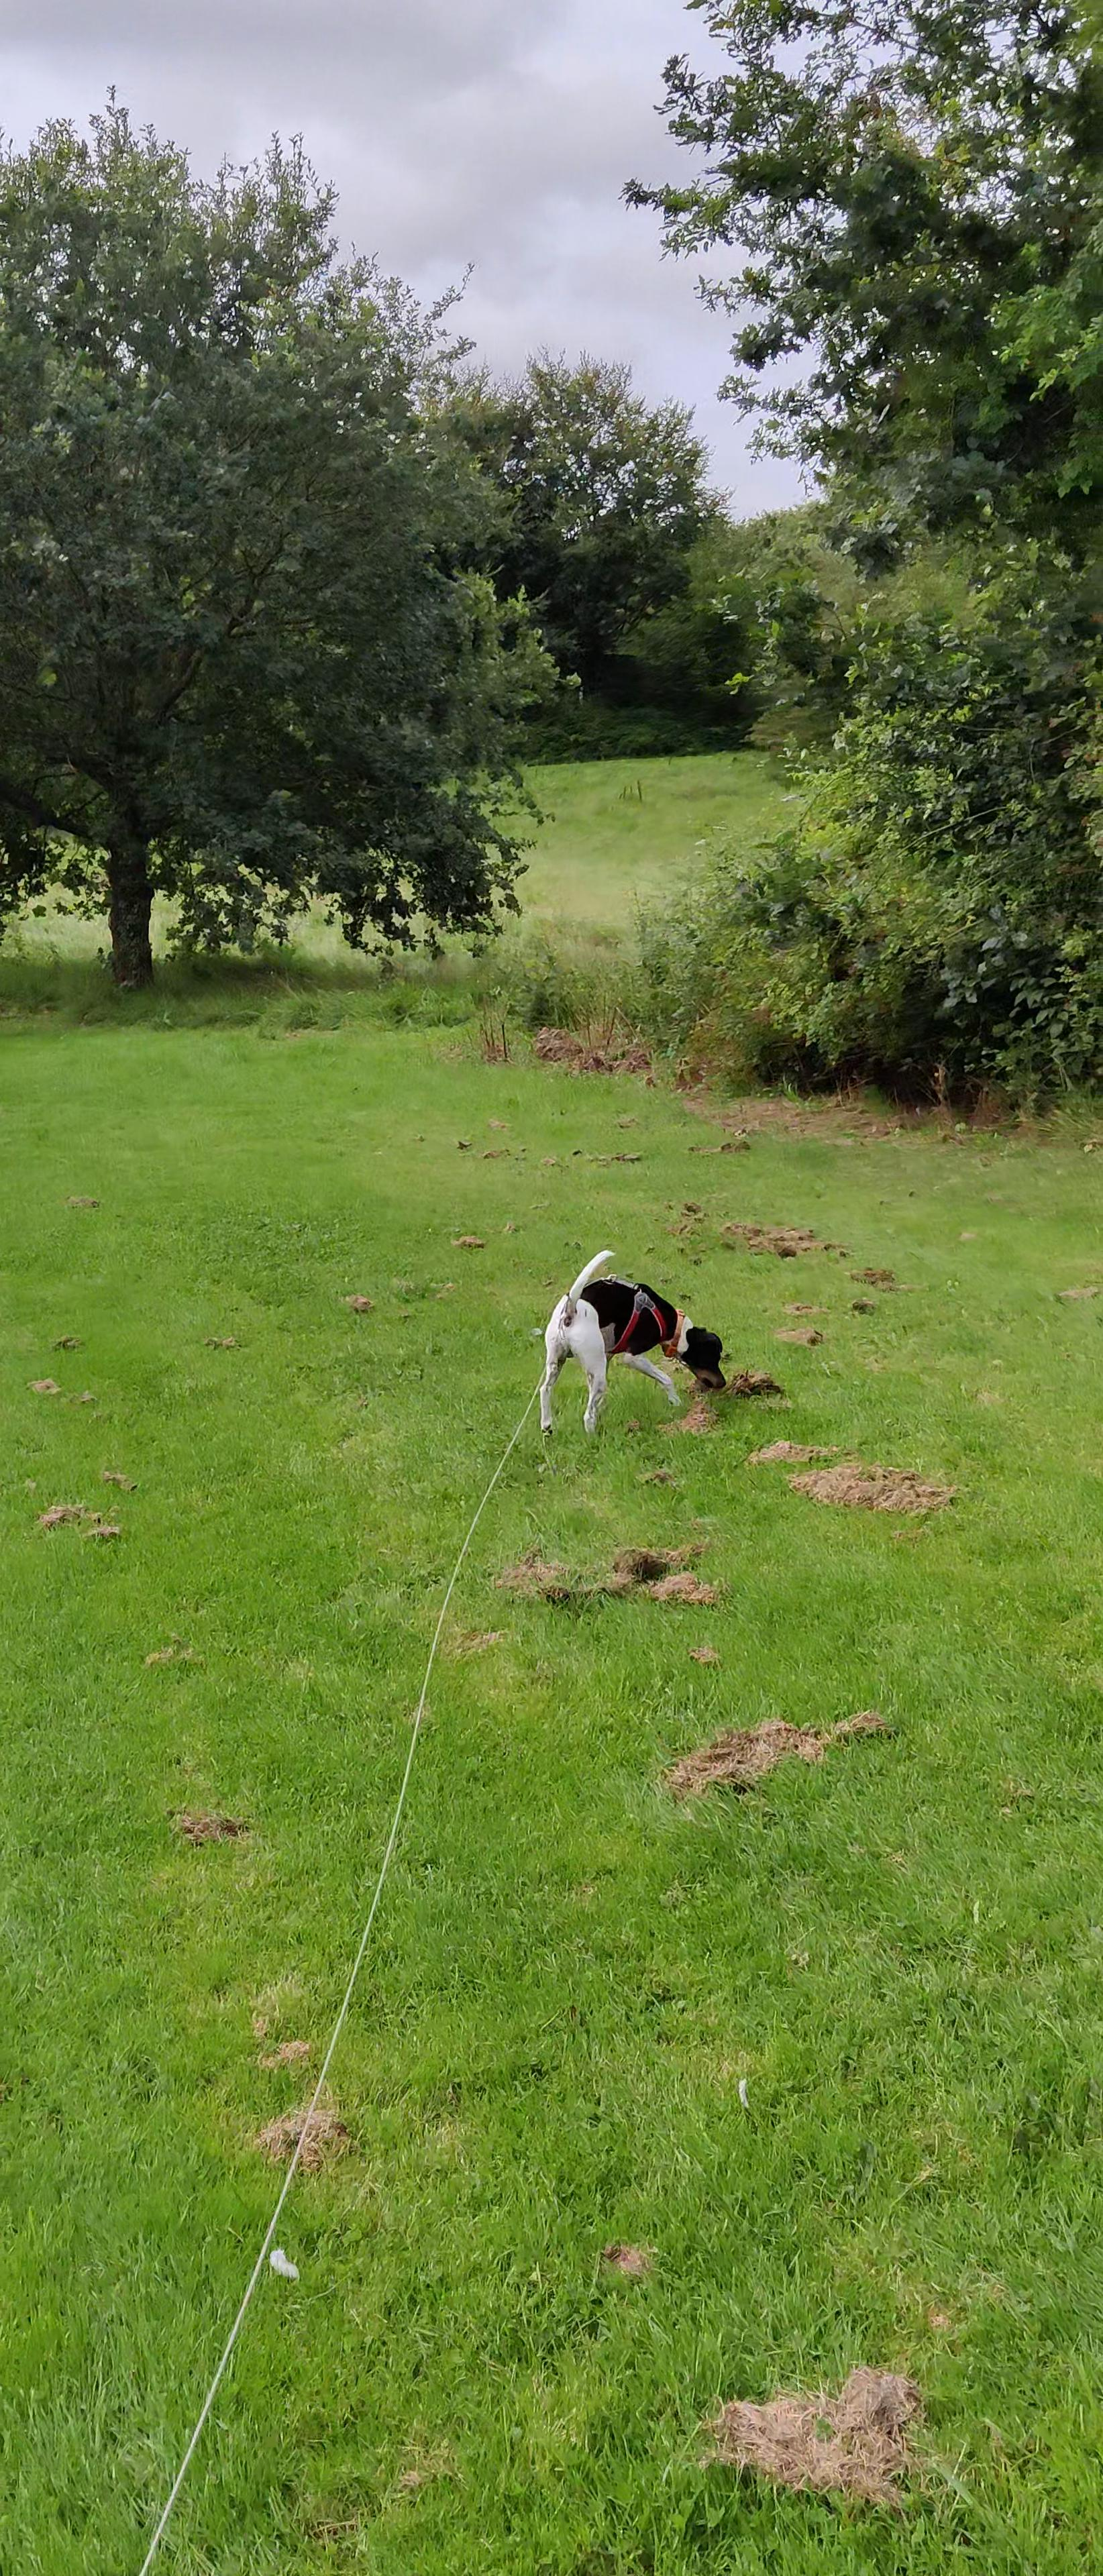Dog: (533, 1244, 728, 1436)
